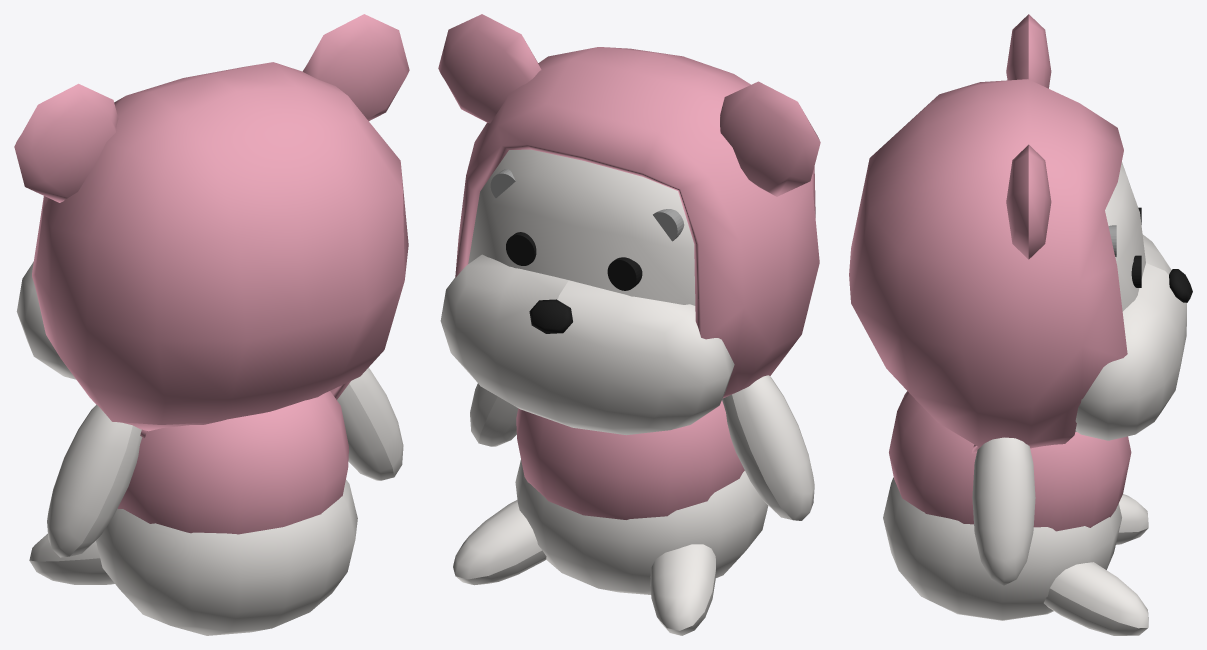
The model's file is Lookie.glb.
3 renders of one model, left to right at view 1: azimuth 30°, elevation 25°; view 2: azimuth 150°, elevation 25°; view 3: azimuth 270°, elevation 25°, orthographic. The views are drawn at different scales.
Parts seen in each view (by area): view 1: Cube.008, Cube.003, Cube.002, Cube.006, Cube.009, Cube.010, Cube.004, Cube.007, Cube.001; view 2: Cube.008, Cube.001, Cube, Cube.002, Cube.003, Cube.006, Cube.009, Cube.010, Cube.005, Cube.007, Cube.004, Cube.011 (+3 smaller); view 3: Cube.008, Cube.002, Cube.003, Cube.001, Cube.004, Cube.005, Cube.010, Cube, Cube.009, Cube.007, Cube.011.
Boxes of the visible parts, <box> form: Cube.008: <box>32,62,408,437</box>; Cube.003: <box>96,480,357,635</box>; Cube.002: <box>117,391,348,534</box>; Cube.006: <box>47,404,142,557</box>; Cube.009: <box>14,83,118,202</box>; Cube.010: <box>302,14,409,120</box>; Cube.004: <box>337,367,403,480</box>; Cube.007: <box>29,533,114,584</box>; Cube.001: <box>16,262,76,379</box>; Cube.008: <box>455,47,819,398</box>; Cube.001: <box>440,254,734,435</box>; Cube: <box>468,149,695,305</box>; Cube.002: <box>516,400,744,519</box>; Cube.003: <box>515,460,768,594</box>; Cube.006: <box>722,375,814,520</box>; Cube.009: <box>720,81,820,196</box>; Cube.010: <box>438,14,541,123</box>; Cube.005: <box>453,500,546,585</box>; Cube.007: <box>650,544,715,635</box>; Cube.004: <box>470,383,518,446</box>; Cube.011: <box>529,299,572,333</box>; Cube.008: <box>849,79,1127,453</box>; Cube.002: <box>889,391,1131,531</box>; Cube.003: <box>883,477,1121,620</box>; Cube.001: <box>1075,234,1186,440</box>; Cube.004: <box>972,437,1035,585</box>; Cube.005: <box>1044,562,1148,635</box>; Cube.010: <box>1006,144,1051,259</box>; Cube: <box>1075,162,1145,431</box>; Cube.009: <box>1006,14,1051,88</box>; Cube.007: <box>1116,494,1148,544</box>; Cube.011: <box>1169,269,1192,302</box>.
Bounding box in the file's own units: 3.17 × 4.28 × 2.55.
